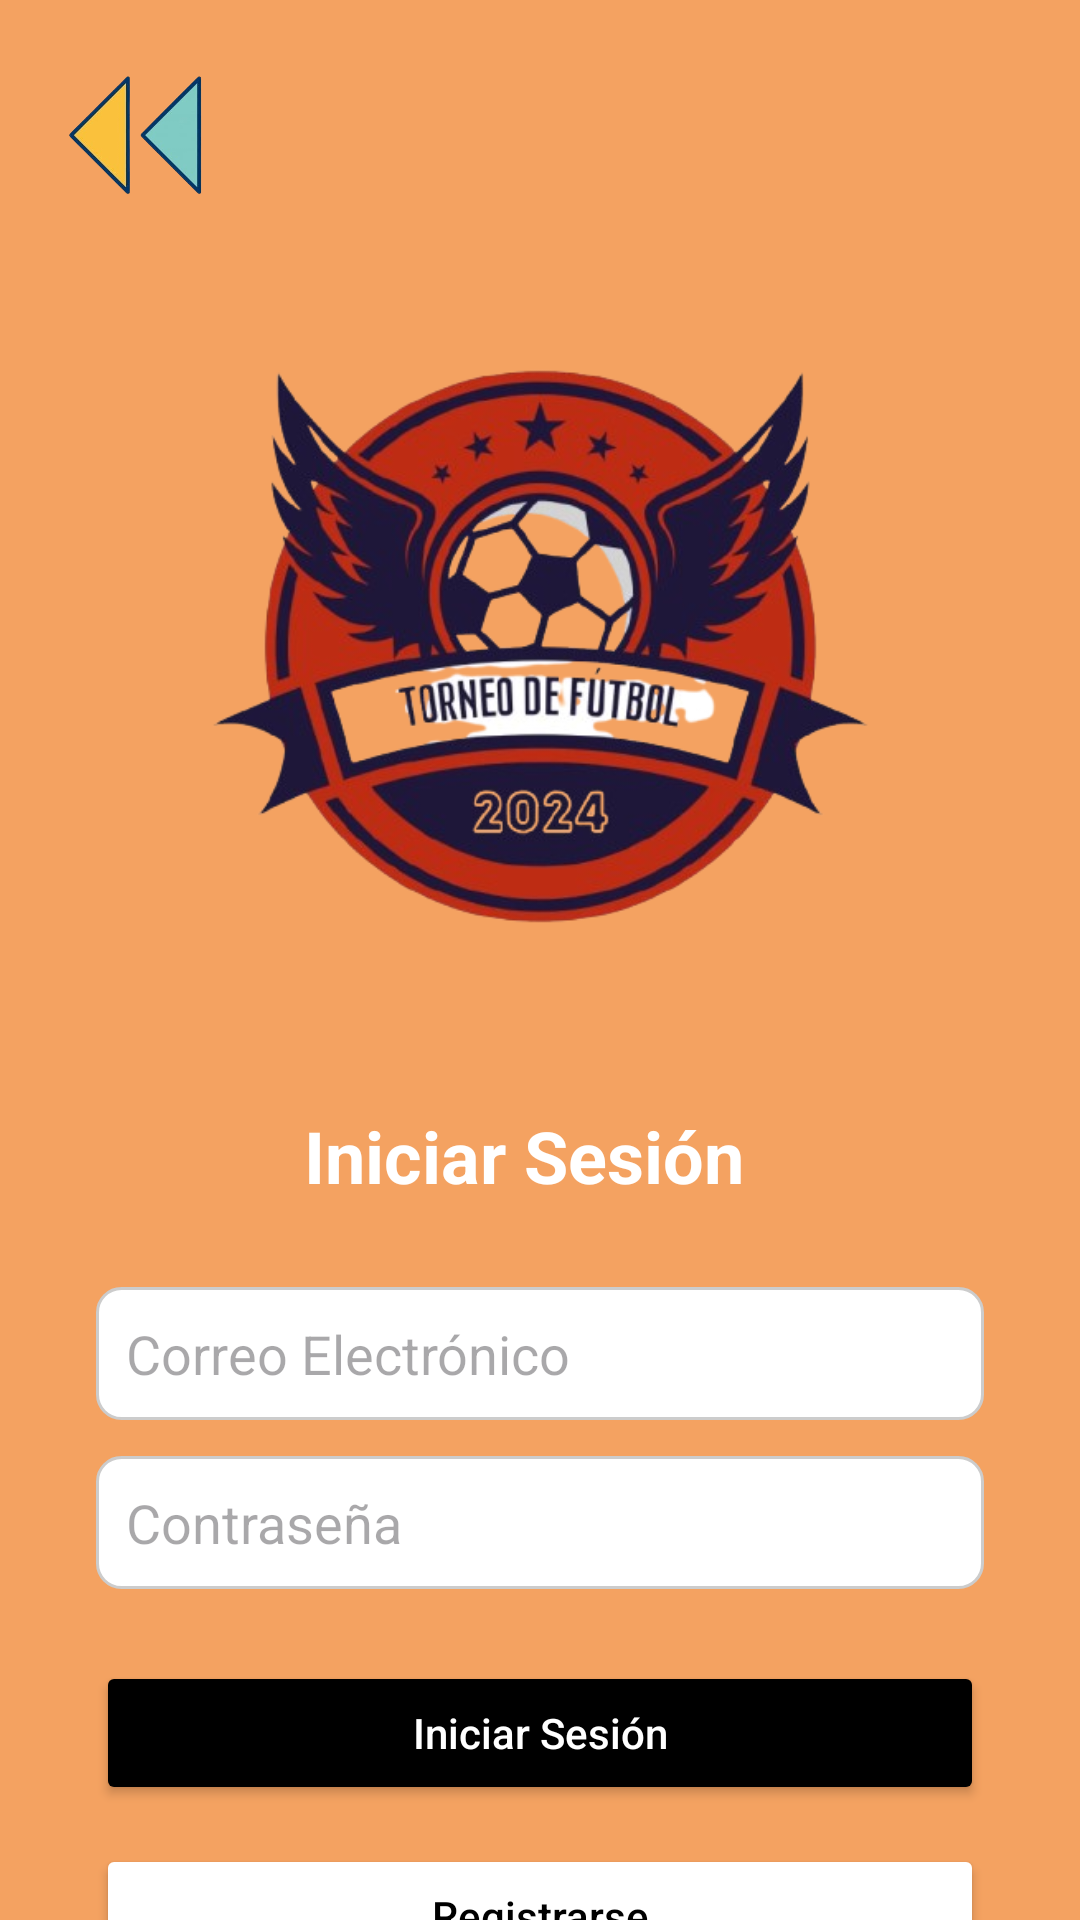

Icon bounding boxes for this 1080w x 1920h phone screenshot, format (x1, y1, x2, y2):
Retroceder: (69, 76, 201, 194)
